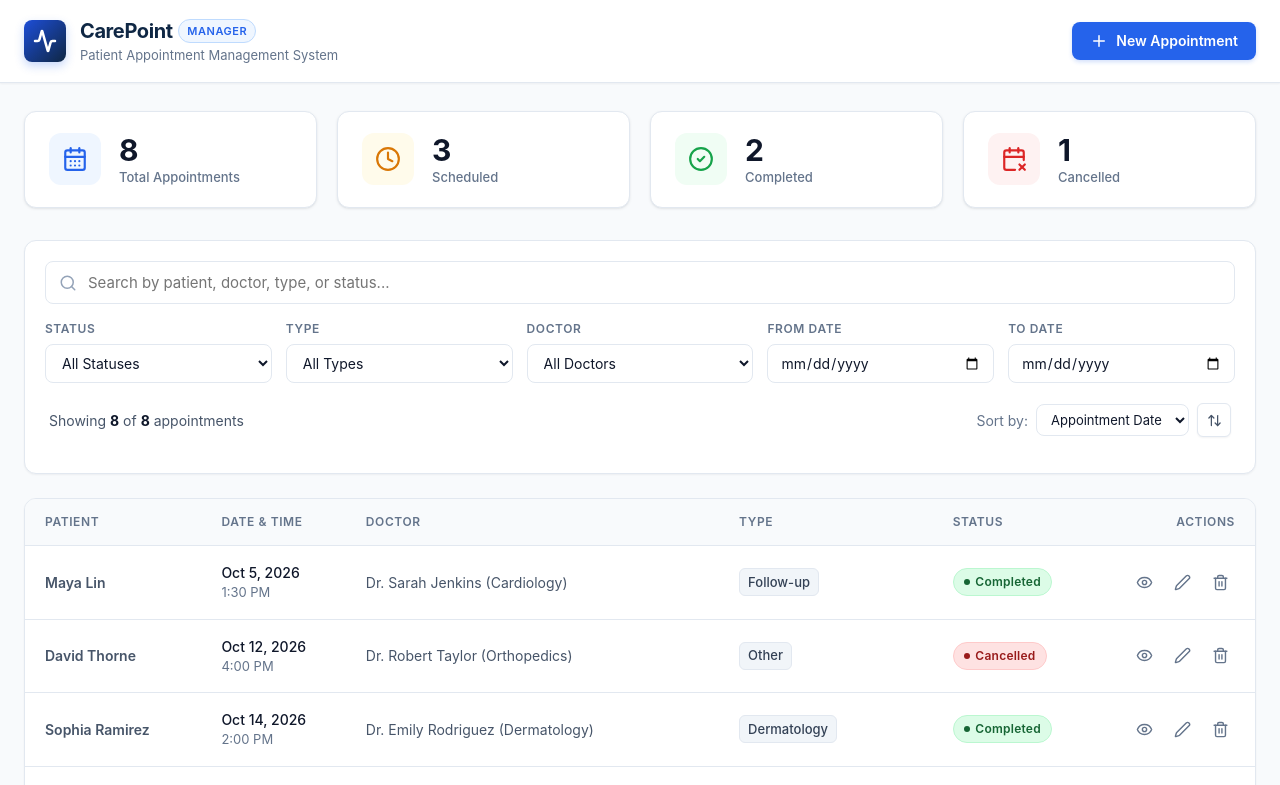
CarePoint Dashboard Component Integration Tests › filters appointments dynamically using search input
The image size is (1280, 785).
Type "Marcus" into the field with test id "search-input" at (640, 282), box [45,261,1235,304]
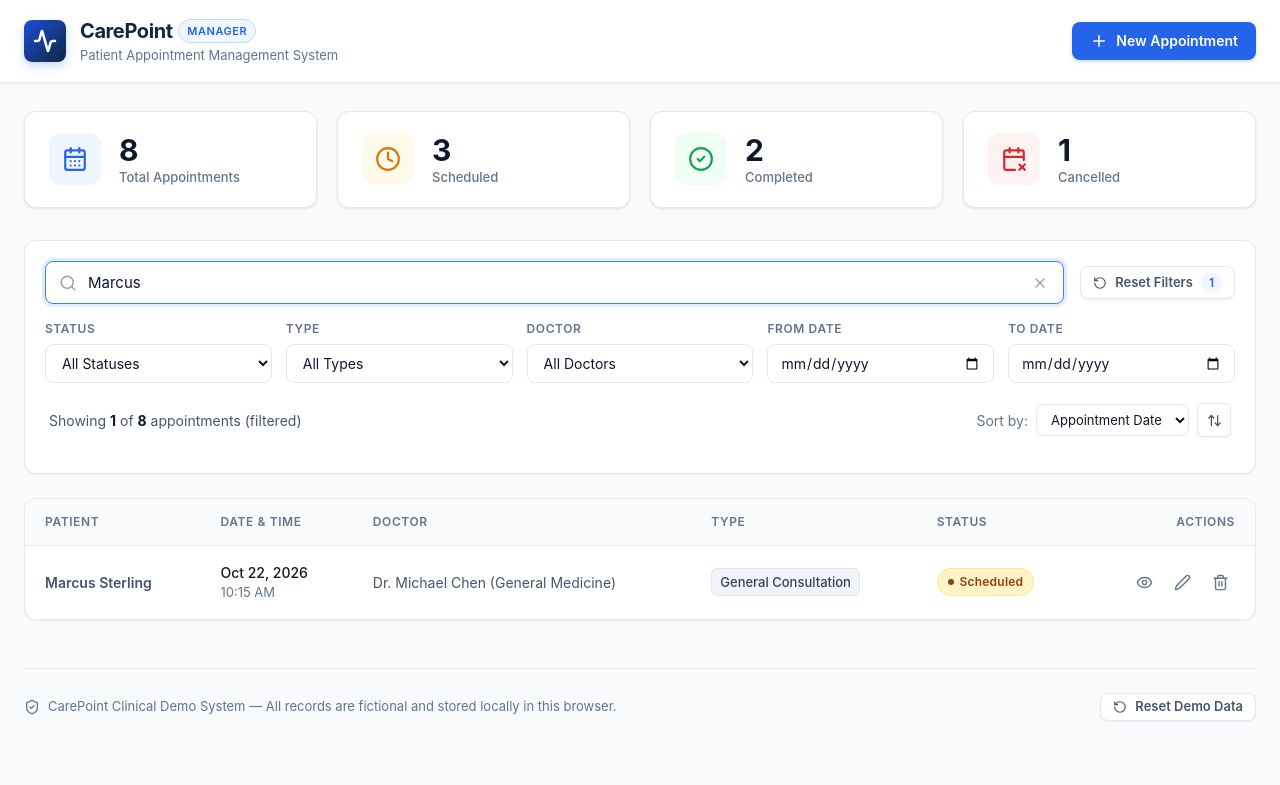
expect the text "Marcus Sterling" is shown: met, box [25,546,200,618]
Clear search
Click the button with test id "clear-search-btn" at (1040, 282), box [1028,270,1052,294]
(page scrolled)
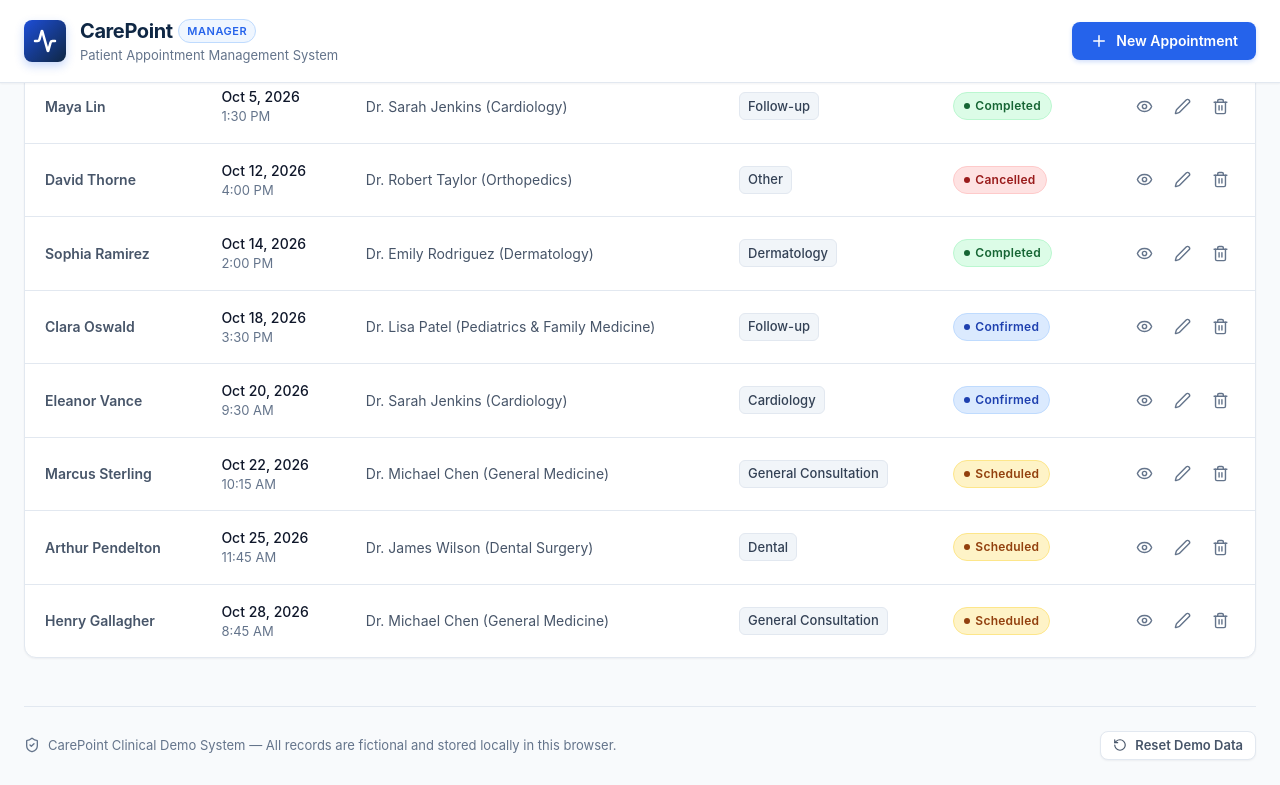
expect the text "Marcus Sterling" is shown: met, box [25,437,201,510]
expect the text "Eleanor Vance" is shown: met, box [25,364,201,437]
